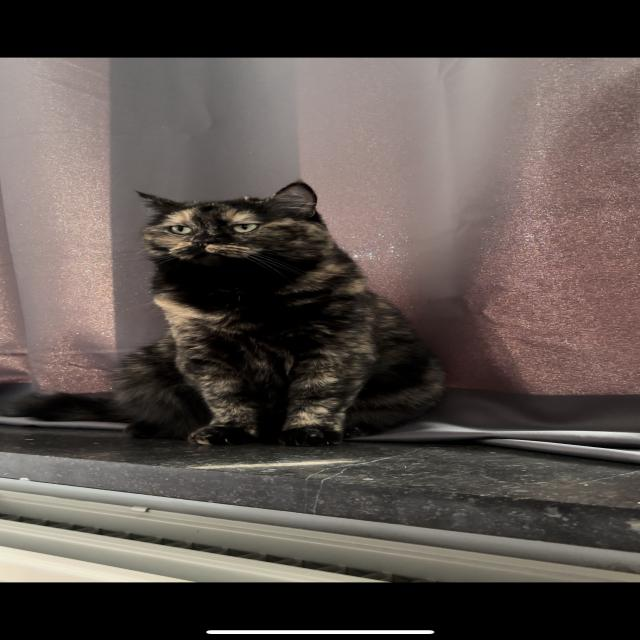authorized: (2, 178, 448, 447)
